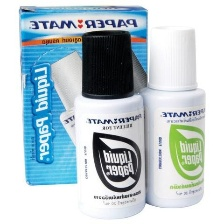book: (15, 3, 151, 187)
correction_fluid: (74, 27, 147, 221), (133, 23, 207, 210)
